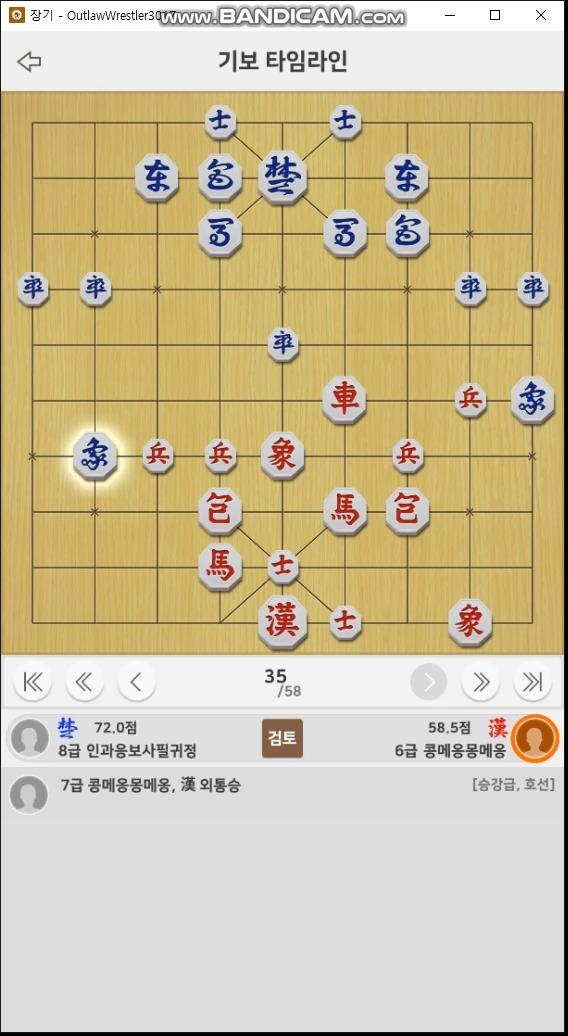cha_green: (385, 155, 429, 202), (135, 155, 179, 201)
cha_red: (322, 376, 367, 424)
jol_green: (453, 269, 489, 310), (78, 271, 115, 306), (265, 325, 300, 362), (516, 271, 552, 305), (16, 270, 49, 305)
jol_red: (142, 439, 176, 476), (205, 437, 236, 476), (393, 438, 424, 474), (456, 383, 486, 419)
ma_green: (325, 210, 369, 258), (197, 212, 243, 256)
ma_red: (197, 543, 242, 590), (325, 488, 365, 532)
po_green: (200, 154, 242, 202), (388, 210, 428, 258)
po_red: (199, 487, 242, 535), (387, 488, 427, 537)
sa_green: (204, 105, 238, 142), (329, 105, 362, 141)
sa_red: (331, 603, 362, 641), (269, 549, 299, 584)
sang_green: (74, 431, 117, 480), (508, 378, 555, 422)
sang_red: (261, 433, 304, 480), (448, 598, 490, 646)
wang_green: (259, 150, 307, 203)
wang_red: (256, 595, 311, 649)
